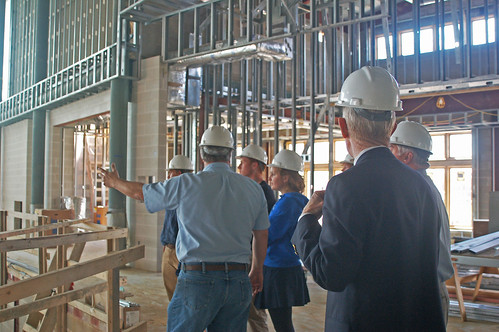person hardhat: (292, 65, 451, 332), (97, 126, 254, 330), (379, 116, 467, 240), (236, 140, 272, 331), (266, 144, 302, 332), (154, 155, 198, 301), (337, 153, 360, 174)
